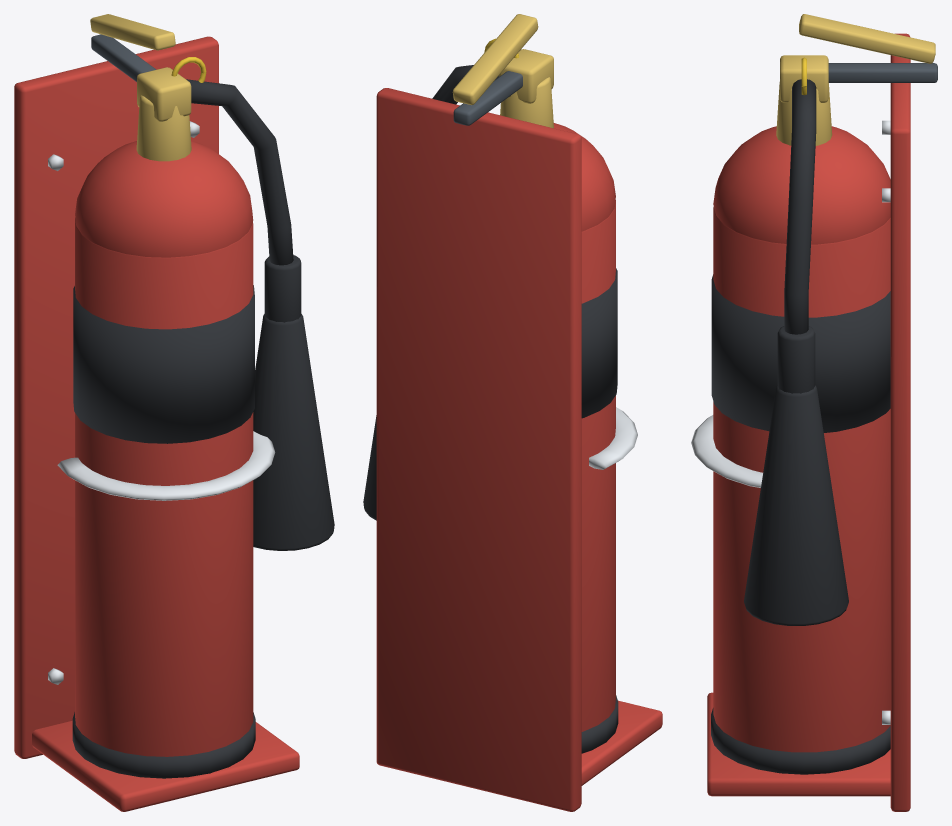
File: co2-extinguisher.glb
3 views of the same model, side by side, from view 1: azimuth 30°, elevation 25°; view 2: azimuth 150°, elevation 25°; view 3: azimuth 270°, elevation 25° (orthographic).
Visible parts, largest first — view 1: CO2ExtinguisherAssembly; view 2: CO2ExtinguisherAssembly; view 3: CO2ExtinguisherAssembly.
Part boxes in pixels (box(x1,y1,x2,y2)): CO2ExtinguisherAssembly: box(14, 14, 334, 811); CO2ExtinguisherAssembly: box(363, 14, 662, 811); CO2ExtinguisherAssembly: box(691, 14, 937, 811).
Size of the model in its own units: 0.274 by 0.7429 by 0.2225.
